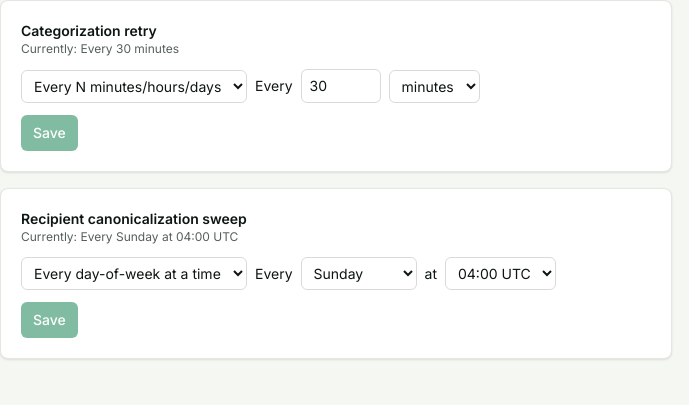
JobSchedulesPanel › shows an error message when saving fails
Replace the text in the number field with "45" at (340, 86), box 300,69 -> 380,103
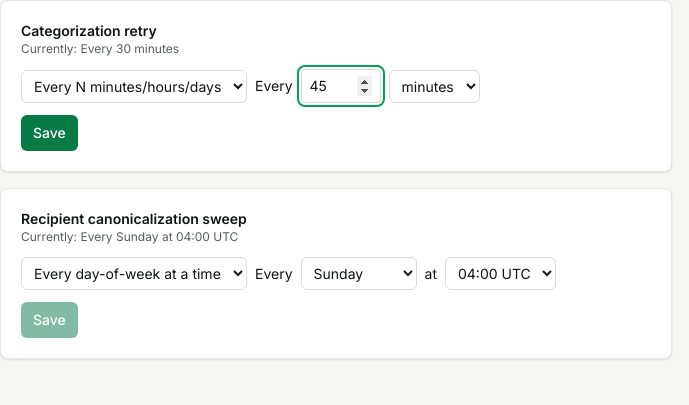
Click the button "Save" below "Every 30 minutes" at (49, 133), box 21,115 -> 78,151
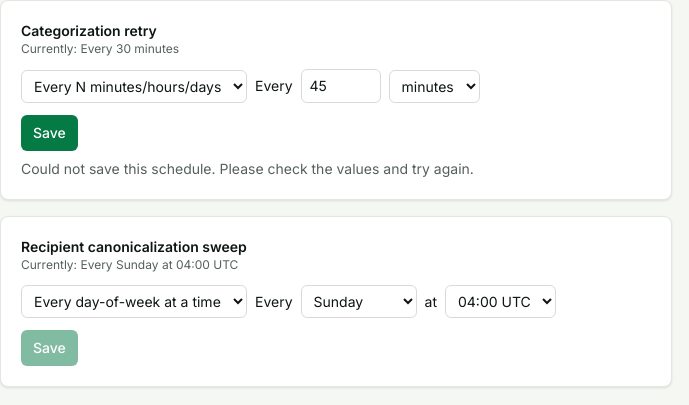
Expected: the text "Could not save this schedule. Please check the values and try again." is shown, 21,160 -> 474,177
